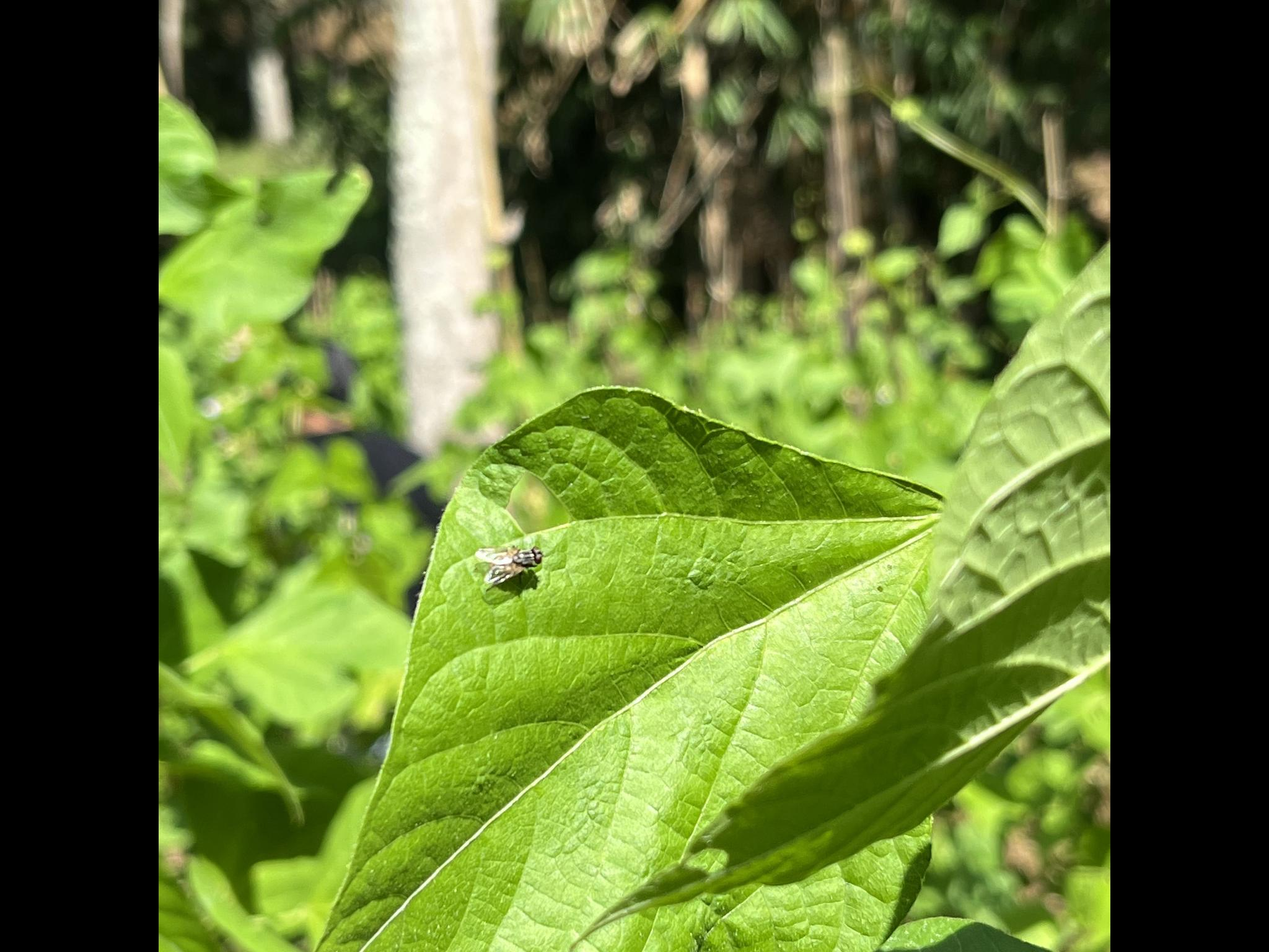mozaik: (507, 462, 578, 540)
